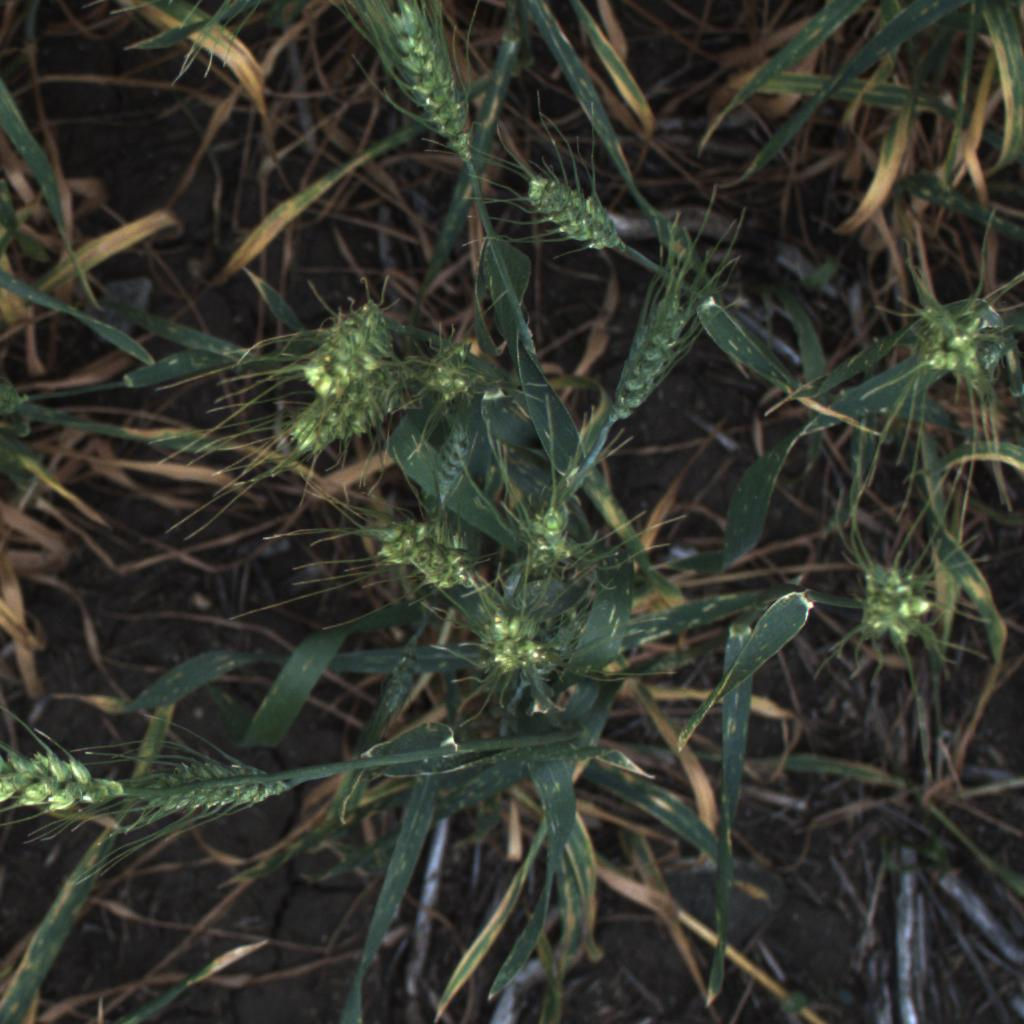0-0: (370, 3, 484, 175), (594, 271, 697, 446), (274, 350, 426, 459), (0, 720, 126, 834), (128, 741, 295, 823), (508, 154, 634, 258), (294, 282, 398, 395), (357, 514, 492, 599), (413, 320, 501, 410), (859, 561, 939, 644), (935, 306, 1008, 379), (471, 612, 541, 675), (523, 493, 575, 566), (430, 434, 459, 491)
